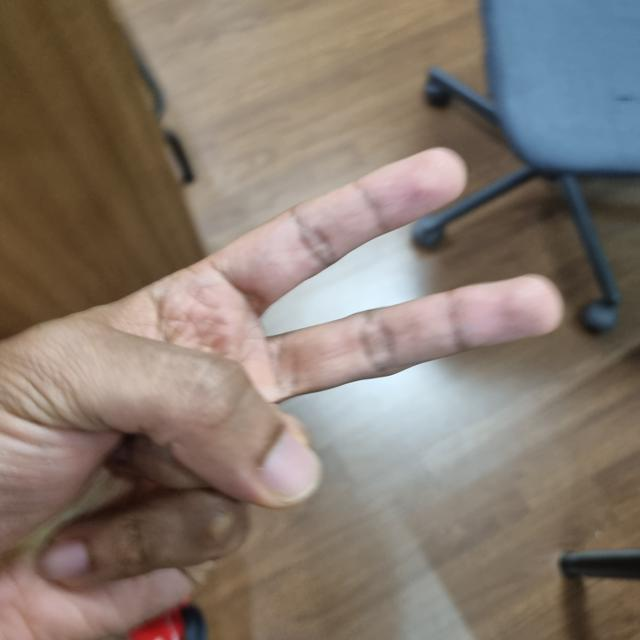Scissors: (0, 154, 560, 640)
